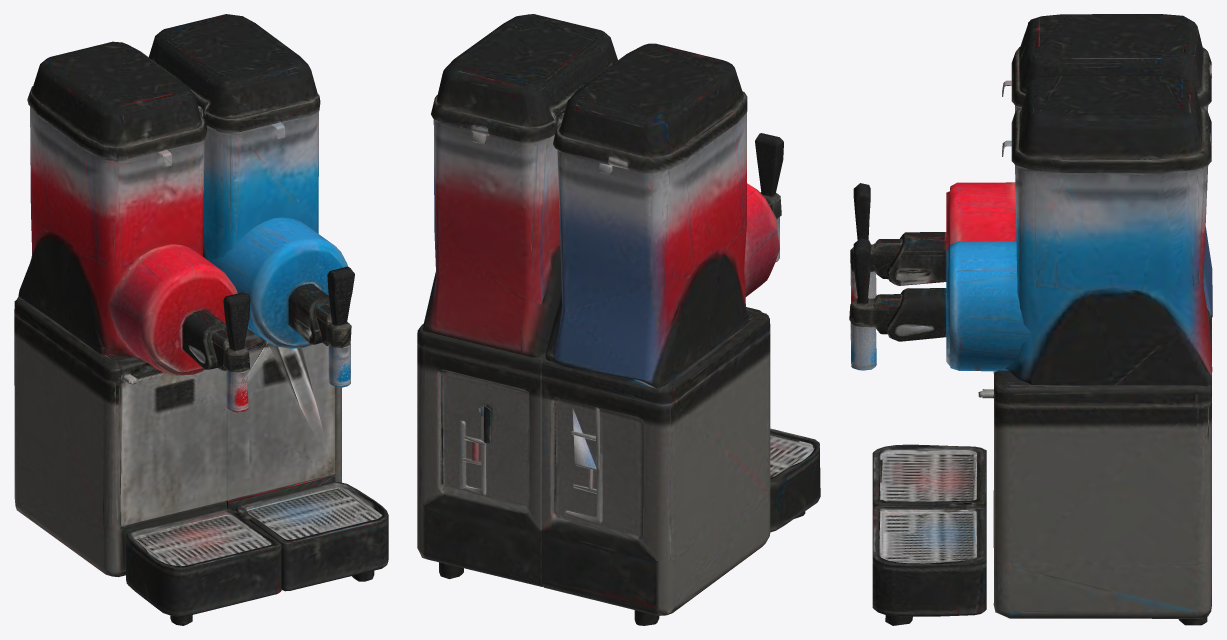
File: p7-slush-machine-t25.glb
3 renders of one model, left to right at view 1: azimuth 30°, elevation 25°; view 2: azimuth 150°, elevation 25°; view 3: azimuth 270°, elevation 25°, orthographic. The views are drawn at different scales.
Visible parts, largest first — view 1: p7-slush-machine-t25; view 2: p7-slush-machine-t25; view 3: p7-slush-machine-t25.
Part boxes in pixels (x1=…): p7-slush-machine-t25: x1=14, y1=14, x2=388, y2=625; p7-slush-machine-t25: x1=417, y1=14, x2=820, y2=625; p7-slush-machine-t25: x1=849, y1=14, x2=1212, y2=625.
Size of the model in its own units: 0.45 by 0.85 by 0.55.
Materials: 1 (1 with a texture image).
